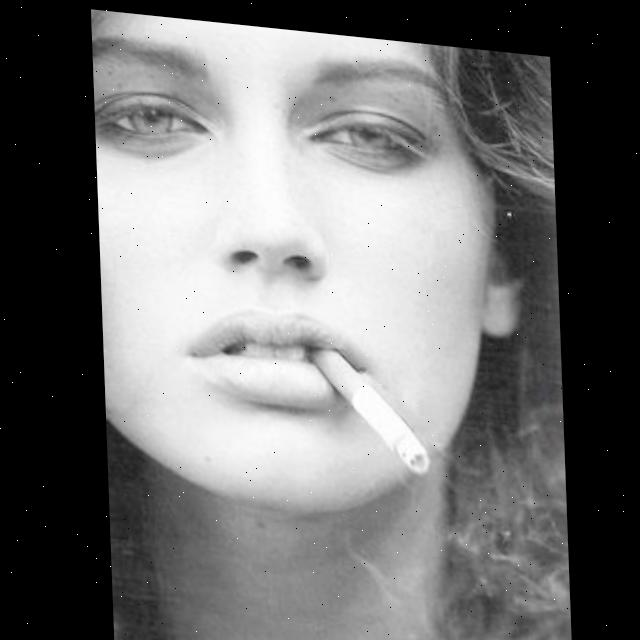cigarette: (304, 338, 426, 468)
